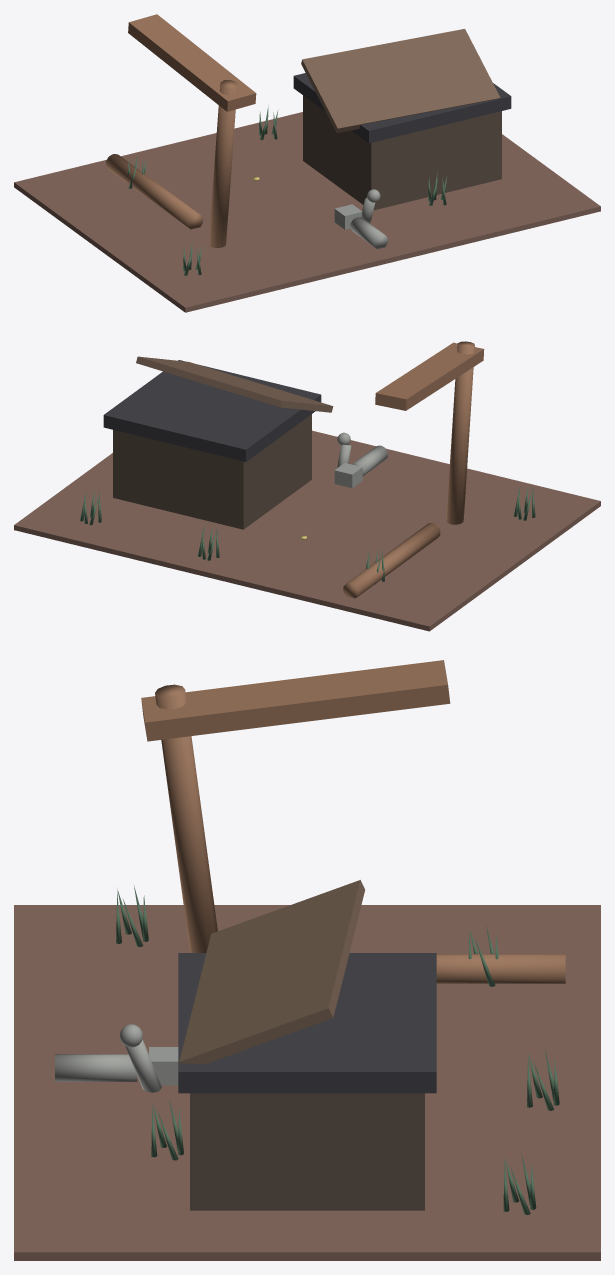
File: prop_hai_jinja.glb
3 views of the same model, one above another, from view 1: azimuth 30°, elevation 25°; view 2: azimuth 150°, elevation 25°; view 3: azimuth 270°, elevation 25° (orthographic). The views are drawn at different scales.
Visible parts, largest first — view 1: hai_jinja; view 2: hai_jinja; view 3: hai_jinja.
Boxes of the visible parts, <box> form: hai_jinja: <box>14,14,600,312</box>; hai_jinja: <box>14,341,600,631</box>; hai_jinja: <box>14,660,600,1260</box>.
Bounding box in the file's own units: 7 × 2.93 × 5.
